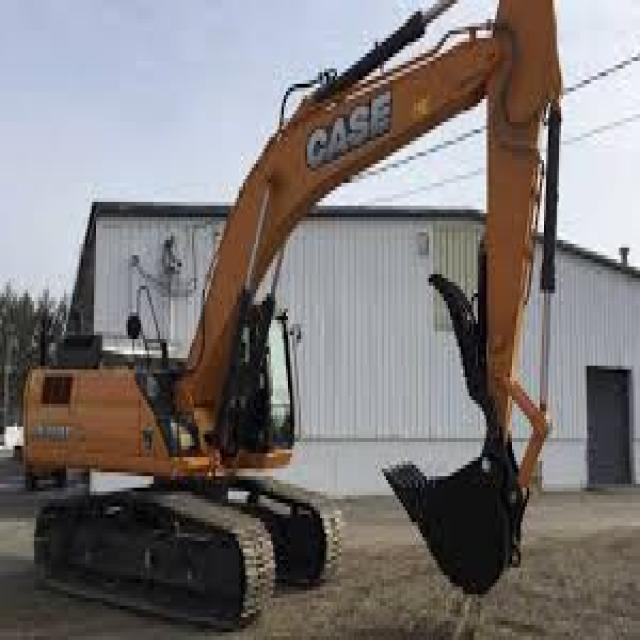excavator: (18, 203, 355, 622)
